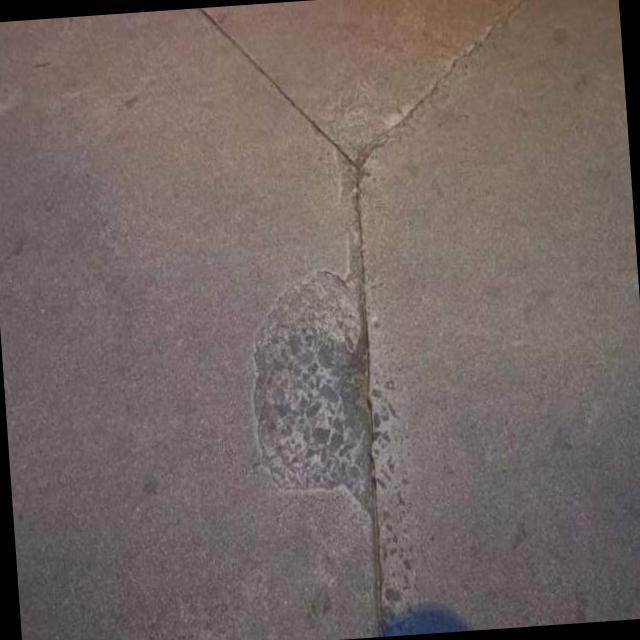Pothole: (254, 233, 380, 524)
